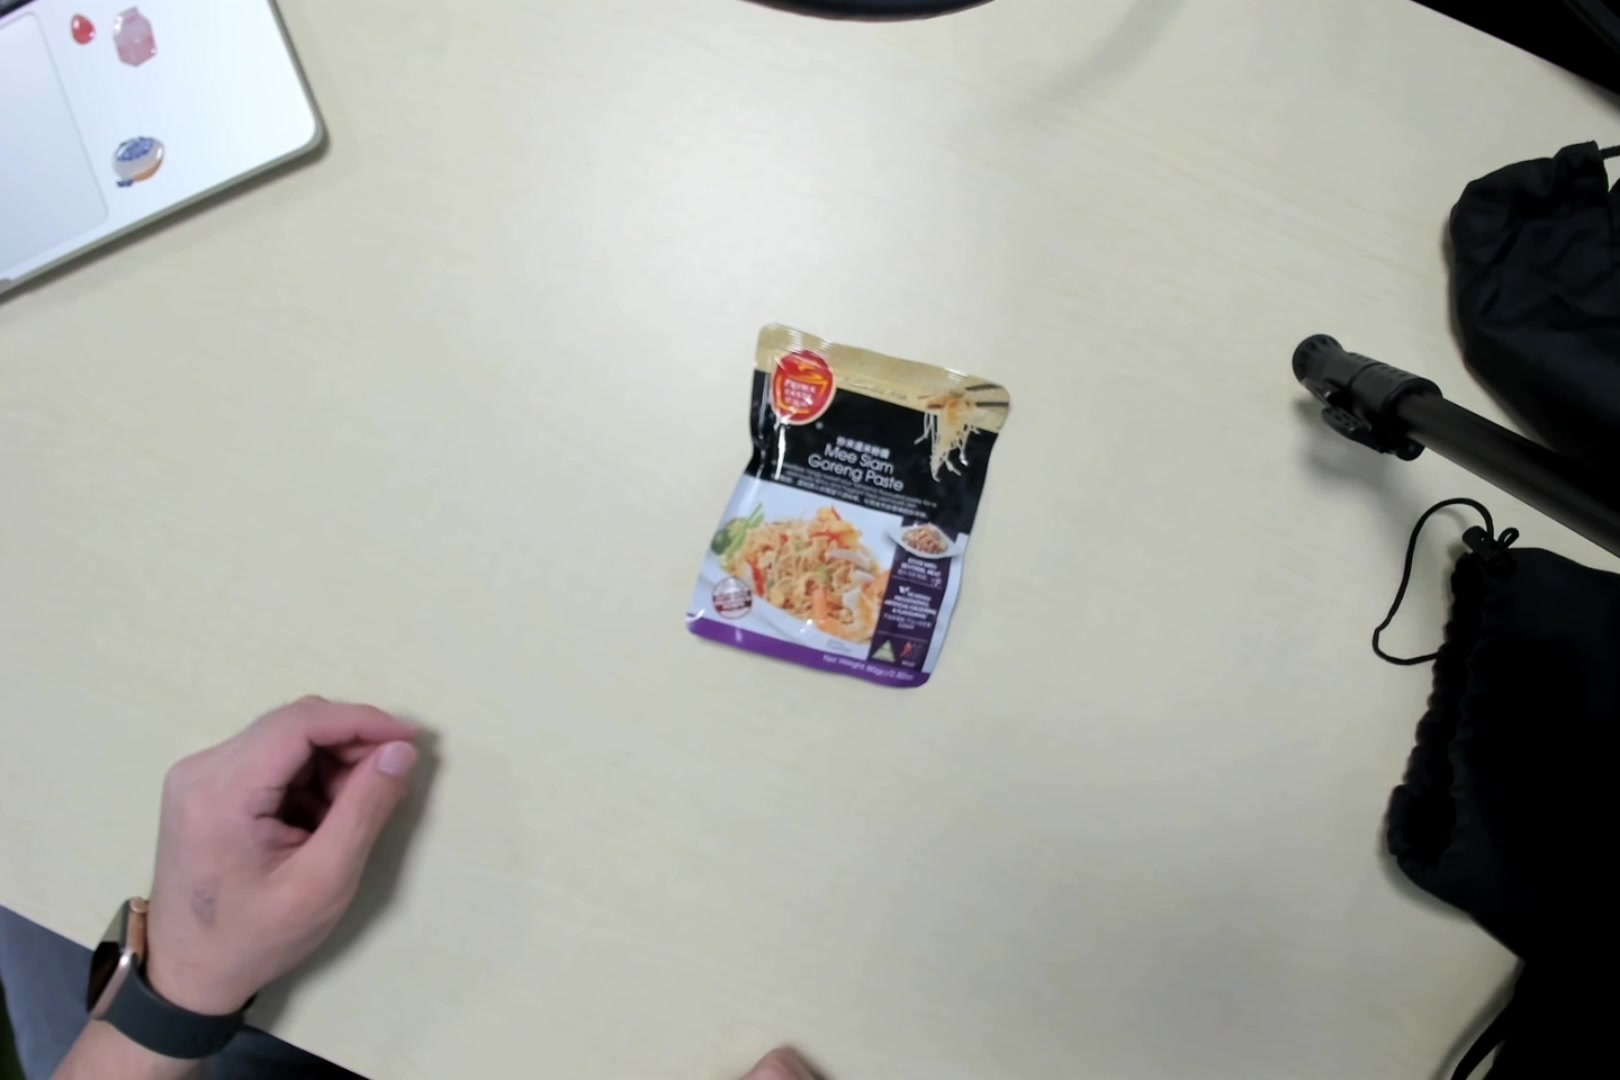CurryPastePowderSauce_0-99g_NonHalal_NonHealthy: (699, 325, 981, 693)
